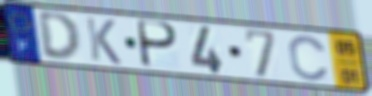4: (189, 23, 227, 76)
7: (242, 27, 279, 80)
C: (287, 34, 331, 83)
D: (35, 11, 84, 64)
K: (83, 15, 124, 67)
P: (137, 18, 181, 71)
